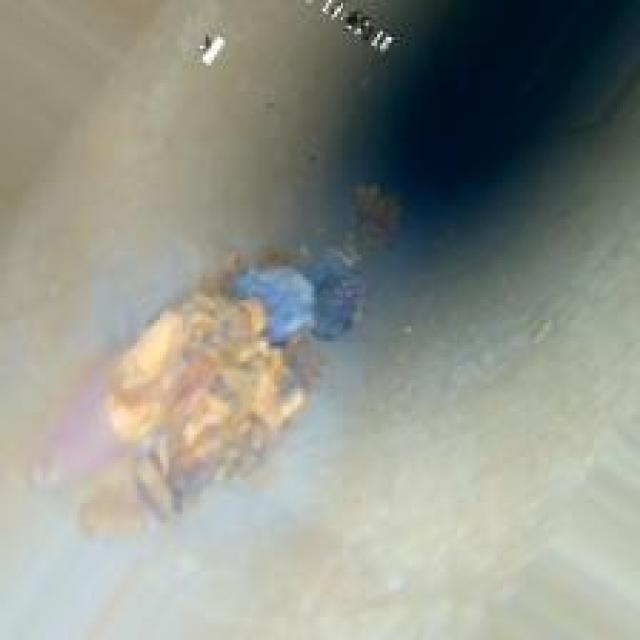stone: (97, 214, 377, 517)
